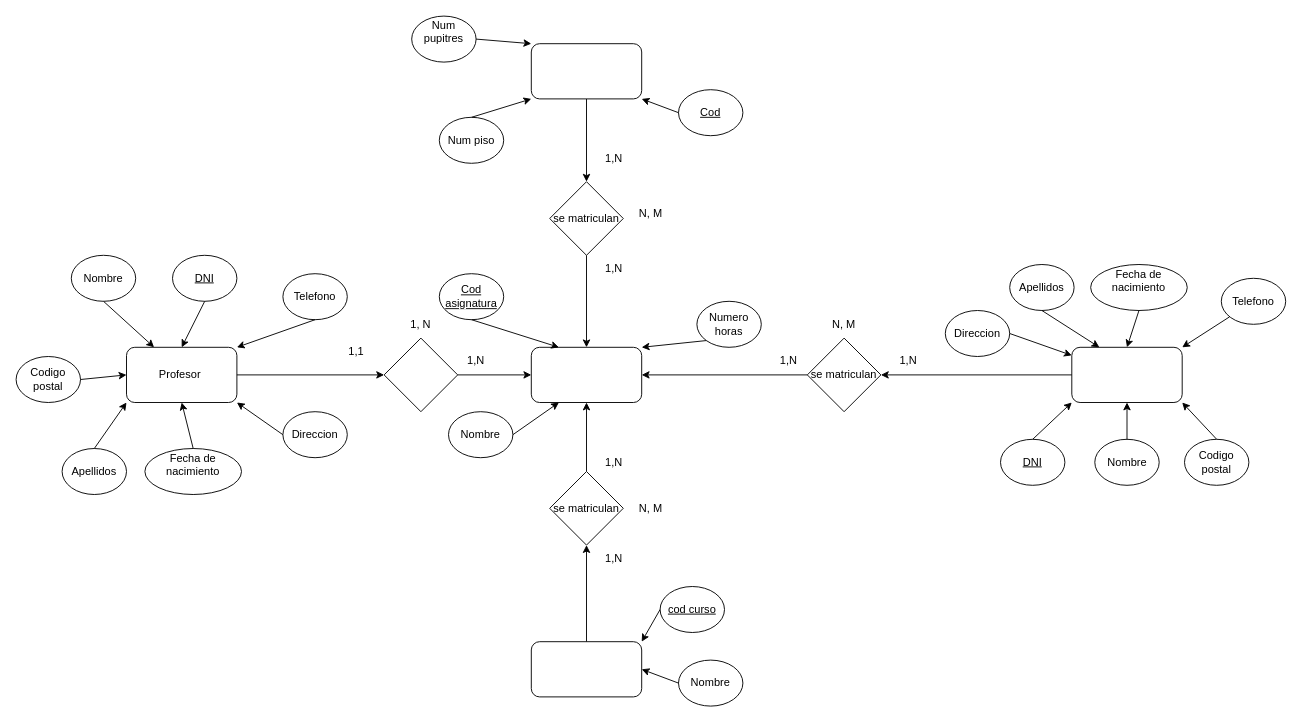
Image size: 1302x722. Some labels were removed from this diagram. The box of each missing label's shape, as (x1, y1, x2, y2) in pixels:
Alumno: (1071, 346, 1182, 402)
Asignatura: (530, 346, 642, 402)
Aulas: (530, 43, 642, 99)
Curso: (530, 641, 642, 697)
Impartir: (383, 337, 458, 412)
